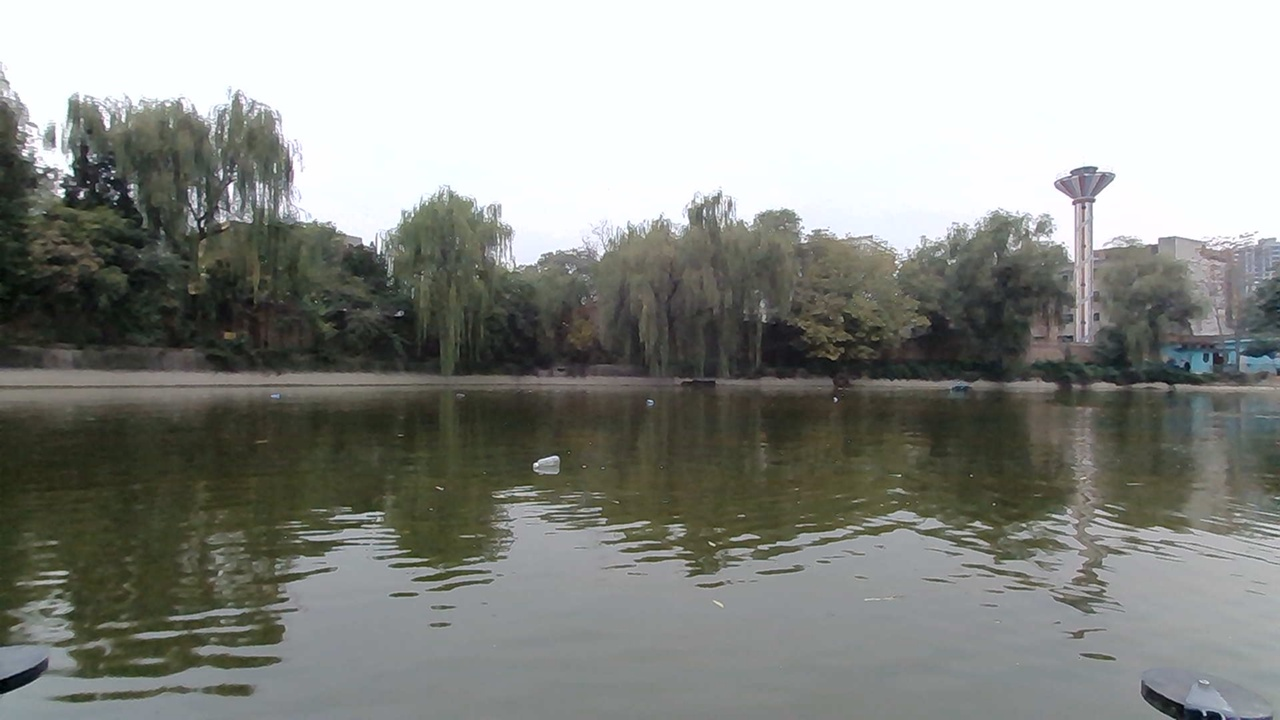bottle: (525, 451, 584, 480), (638, 395, 669, 413)
